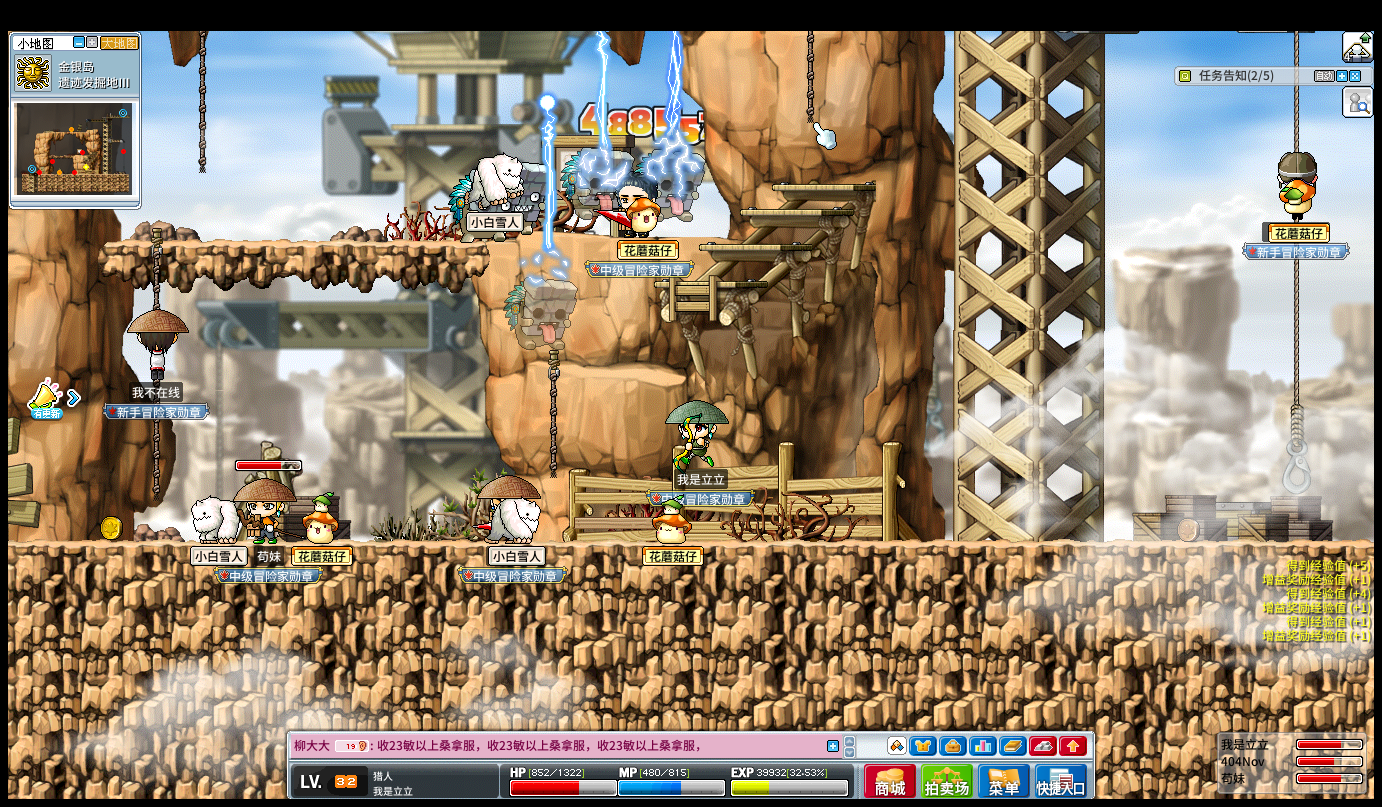floor: (8, 539, 1374, 550), (103, 239, 486, 250), (597, 233, 739, 243), (653, 281, 768, 288), (740, 209, 854, 216), (699, 244, 813, 251), (772, 184, 876, 190)
monster: (503, 278, 578, 350), (561, 148, 620, 220), (654, 150, 705, 222), (523, 163, 547, 235), (449, 175, 471, 243)
rope: (548, 350, 560, 478), (197, 30, 206, 171), (151, 228, 162, 308), (1294, 259, 1300, 404), (806, 31, 813, 123), (1294, 32, 1299, 153), (153, 418, 160, 500), (1291, 405, 1304, 441)
